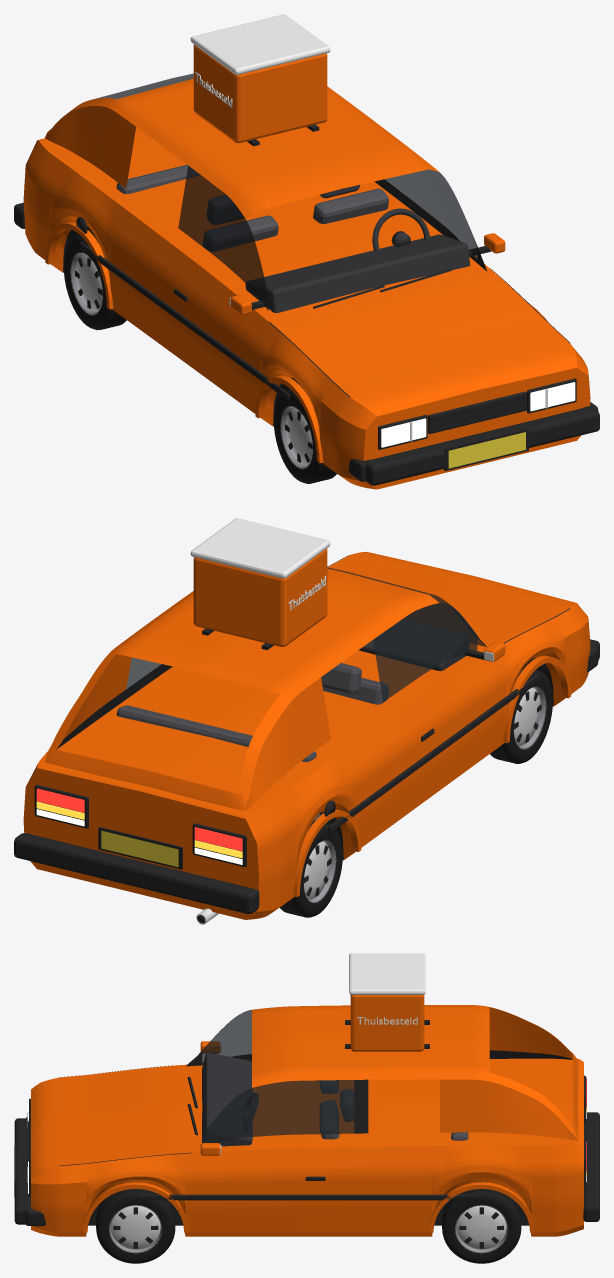
The model's file is corso.glb.
The picture shows the model from 3 angles, top to bottom: view 1: azimuth 30°, elevation 25°; view 2: azimuth 150°, elevation 25°; view 3: azimuth 270°, elevation 25°; orthographic projection. The views are drawn at different scales.
Parts seen in each view (by area): view 1: cabin_roof, hood, tub, nose, door_R, quarter_R, roofbox, cabin_glass, dash, roofbox_lid, fender_R, bumper_front (+17 smaller); view 2: cabin_roof, tub, tail, door_R, quarter_R, roofbox, hood, cabin_glass, bumper_rear, roofbox_lid, fender_R, dash (+16 smaller); view 3: cabin_roof, tub, door_L, quarter_L, hood, cabin_glass, fender_L, wheel_RL, wheel_FL, roofbox, dash, nose (+10 smaller).
Boxes of the visible parts, x1,y1,x2,y2 form: cabin_roof: (45,78,438,218); hood: (270,268,569,397); tub: (47,127,489,321); nose: (337,344,590,489); door_R: (152,239,268,413); quarter_R: (33,150,164,339); roofbox: (193,44,327,143); cabin_glass: (92,73,477,310); dash: (245,234,470,312); roofbox_lid: (190,14,330,74); fender_R: (256,323,349,481); bumper_front: (365,406,599,485); cabin_roof: (44,568,439,811); tub: (47,647,484,805); tail: (23,752,279,919); door_R: (386,659,503,820); quarter_R: (266,721,399,915); roofbox: (193,548,327,646); hood: (327,555,568,649); cabin_glass: (126,567,486,702); bumper_rear: (14,833,259,913); roofbox_lid: (190,518,330,578); fender_R: (494,609,583,744); dash: (359,619,469,671); cabin_roof: (252,1005,578,1140); tub: (191,1058,558,1152); door_L: (191,1147,362,1236); quarter_L: (362,1145,558,1236); hood: (58,1064,191,1165); cabin_glass: (202,1010,354,1142); fender_L: (58,1153,191,1236); wheel_RL: (442,1189,521,1263); wheel_FL: (96,1189,175,1263); roofbox: (350,995,424,1051); dash: (202,1052,252,1146); nose: (31,1078,58,1236).
Bounding box in the file's own units: 1.78 × 1.92 × 4.13.
